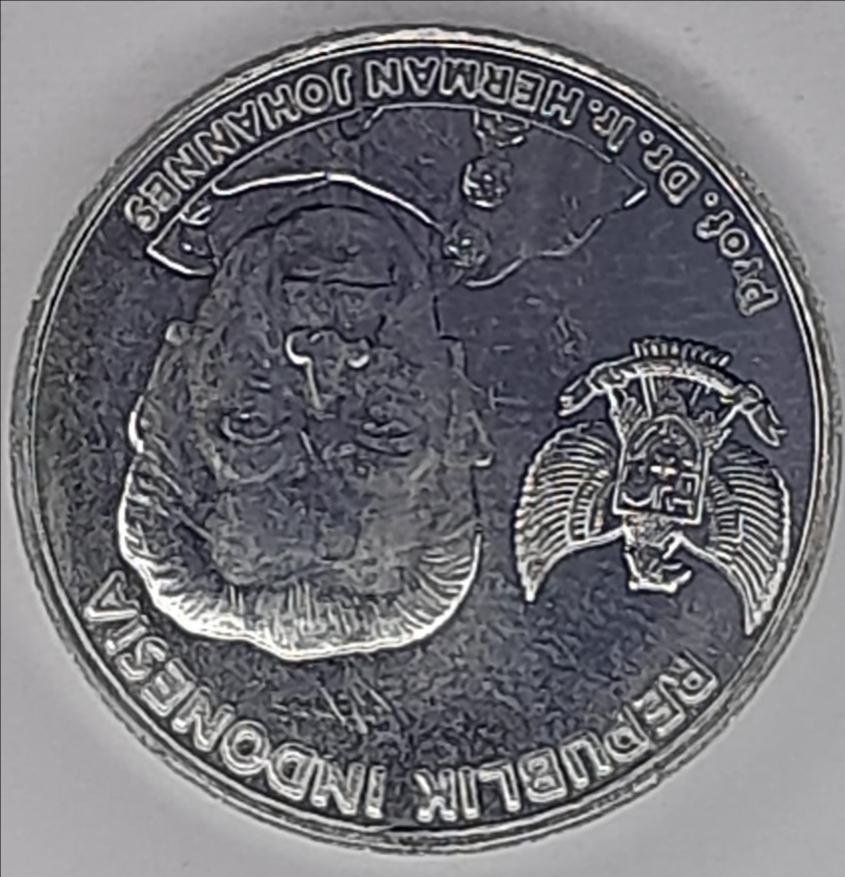coin_100_e2016: (4, 17, 844, 858)
